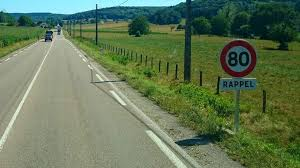Speed_limit_80km: (220, 40, 256, 77)
